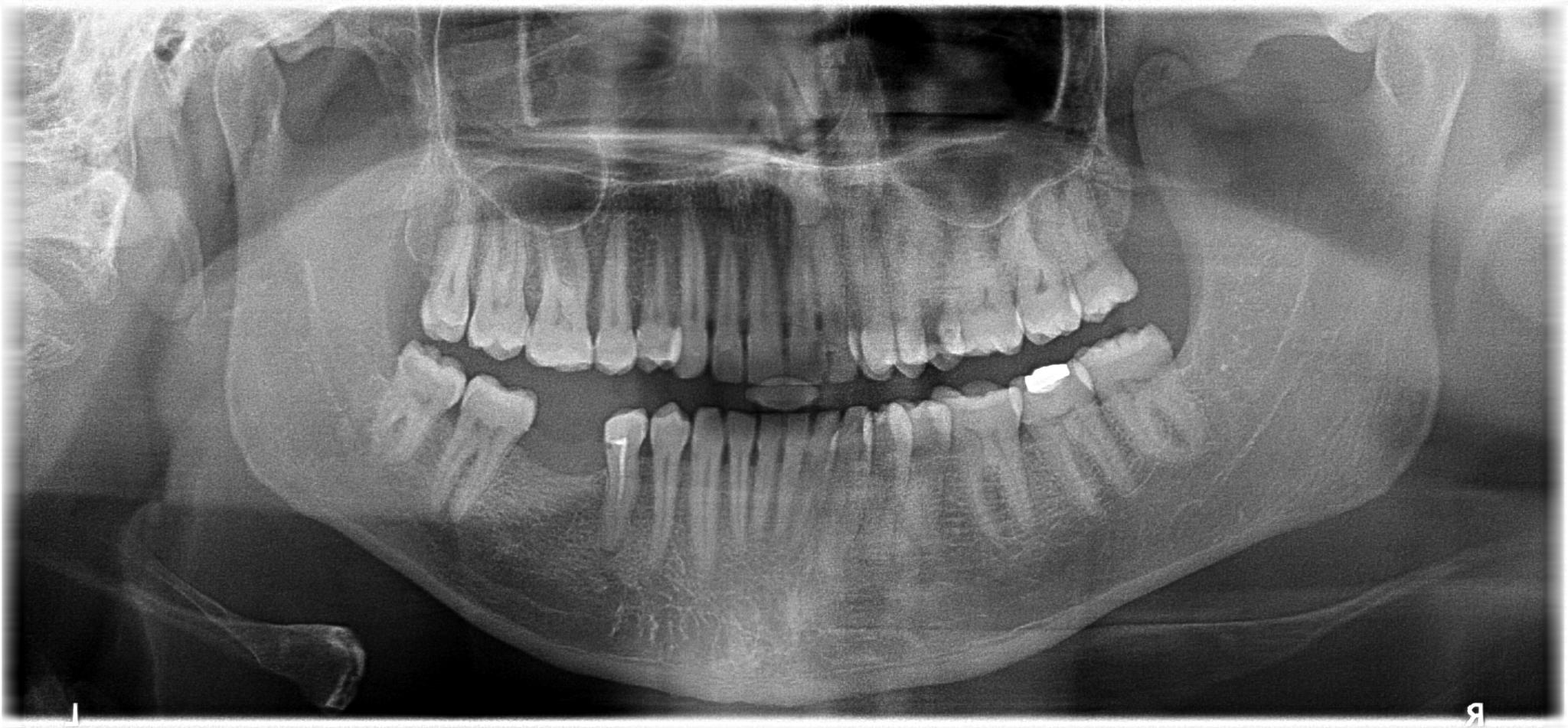Premolars: (314, 237, 968, 672), (318, 185, 997, 556)
